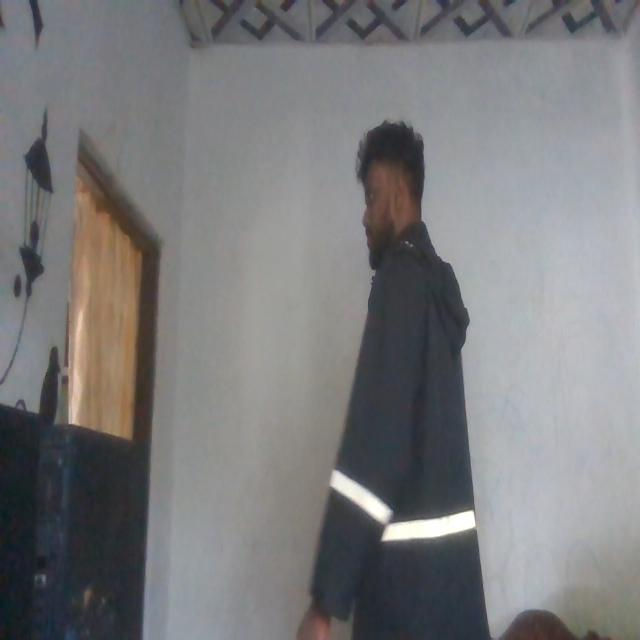Jacket_Wearer: (291, 234, 482, 640)
Person: (289, 121, 485, 640)
